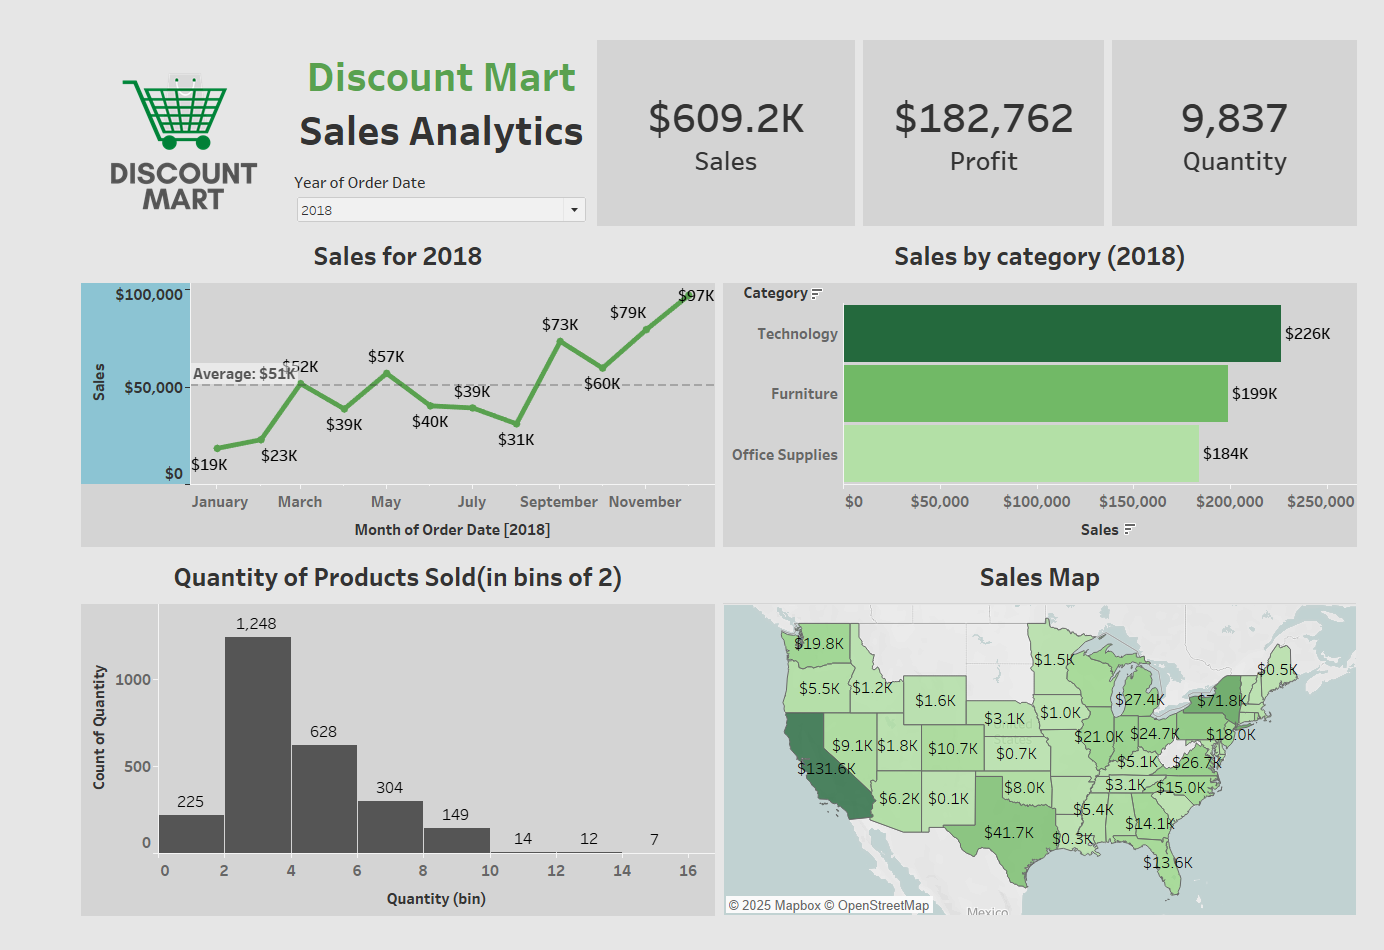

What the dashboard file says about the page in this screenshot:
{"tool":"tableau","page":{"name":"Dashboard 1","canvas":[1300,900],"ordinal":0},"visuals":[{"type":"image","param":"E:/Tableau/Discount_mart/Discount+Mart+(1).png","box":[8,8,213,194]},{"type":"text","box":[221,8,303,132]},{"type":"worksheet","title":"Sales Card","mark":"Automatic","box":[524,8,266,194]},{"type":"worksheet","title":"Profit Card","mark":"Automatic","box":[790,8,249,194]},{"type":"worksheet","title":"Quantity Card","mark":"Automatic","box":[1039,8,253,194]},{"type":"filter","title":"Yearly Sales","param":"[federated.0va139k08pg1e90zlzkj4183b4he].[yr:Order Date:ok]","box":[221,140,303,62]},{"type":"worksheet","title":"Yearly Sales","mark":"Automatic","rows":["Sales"],"cols":["Order Date"],"box":[8,202,642,321]},{"type":"worksheet","title":"Sales by Category","mark":"Automatic","rows":["Category"],"cols":["Sales"],"box":[650,202,642,321]},{"type":"worksheet","title":"Produts sold per order","mark":"Automatic","rows":["Quantity"],"cols":["Quantity (bin)"],"box":[8,523,642,369]},{"type":"worksheet","title":"Sales map","mark":"Automatic","box":[650,523,642,369]}]}

Visuals, with their boxes in screenshot pixels (x1, y1, x2, y2), scaled from the page's 1300x900 canvas onto the 1384x950 screenshot:
image: left=9, top=8, right=235, bottom=213
text: left=235, top=8, right=558, bottom=148
"Sales Card" worksheet: left=558, top=8, right=841, bottom=213
"Profit Card" worksheet: left=841, top=8, right=1106, bottom=213
"Quantity Card" worksheet: left=1106, top=8, right=1375, bottom=213
"Yearly Sales" filter: left=235, top=148, right=558, bottom=213
"Yearly Sales" worksheet: left=9, top=213, right=692, bottom=552
"Sales by Category" worksheet: left=692, top=213, right=1375, bottom=552
"Produts sold per order" worksheet: left=9, top=552, right=692, bottom=942
"Sales map" worksheet: left=692, top=552, right=1375, bottom=942
